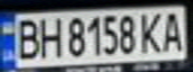1: (84, 12, 103, 56)
5: (100, 12, 121, 55)
8: (63, 14, 87, 57), (118, 11, 139, 55)
A: (160, 8, 187, 53)
B: (9, 16, 42, 61)
H: (36, 13, 63, 60)
K: (136, 10, 166, 54)
